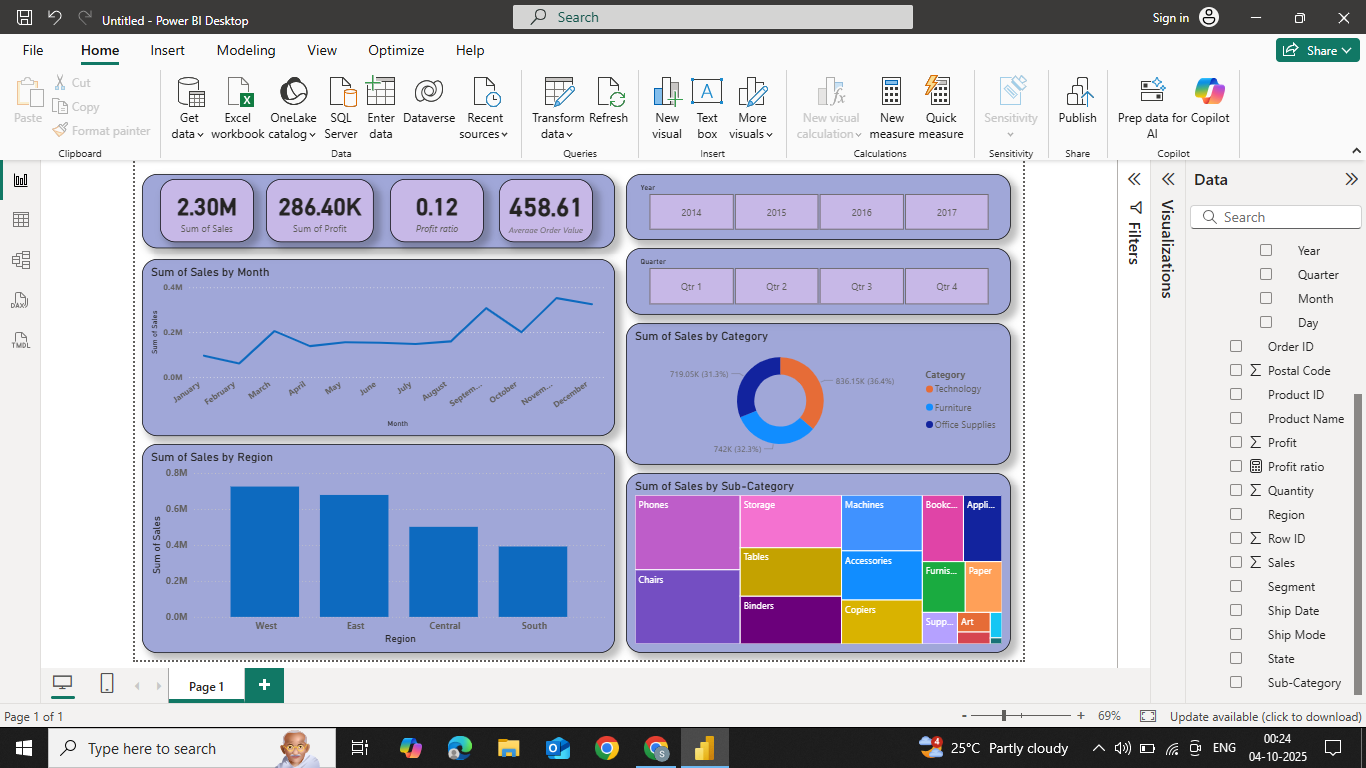

This screenshot's page, from the dashboard's own definition file:
{"tool":"powerbi","page":{"name":"Page 1","canvas":[1280,720],"ordinal":0},"visuals":[{"type":"lineChart","fields":{"Category":["Superstore.Order Date.Variation.Date Hierarchy.Month"],"Y":["Sum(Superstore.Sales)"]},"box":[10.1,142.6,681.1,254.9],"z":0},{"type":"slicer","fields":{"Values":["Superstore.Order Date.Variation.Date Hierarchy.Year"]},"box":[707,20.2,554.4,95],"z":1000},{"type":"clusteredColumnChart","fields":{"Y":["Sum(Superstore.Sales)"],"Category":["Superstore.Region"]},"box":[10.1,409,681.1,301],"z":2000},{"type":"donutChart","fields":{"Category":["Superstore.Category"],"Y":["Sum(Superstore.Sales)"]},"box":[707,234.7,554.4,204.5],"z":3000},{"type":"treemap","fields":{"Group":["Superstore.Sub-Category"],"Values":["Sum(Superstore.Sales)"]},"box":[707,450,554.4,259.2],"z":4000},{"type":"shape","box":[10.1,20.2,681.1,106.6],"z":5000},{"type":"slicer","fields":{"Values":["Superstore.Order Date.Variation.Date Hierarchy.Quarter"]},"box":[707,126.7,554.4,96.5],"z":6000},{"type":"card","fields":{"Values":["Sum(Superstore.Sales)"]},"box":[36,27.4,135,90.7],"z":7000},{"type":"card","fields":{"Values":["Sum(Superstore.Profit)"]},"box":[188.6,27.4,155,90.7],"z":8000},{"type":"card","fields":{"Values":["Superstore.Profit ratio"]},"box":[367.2,27.4,135.4,90.7],"z":8001},{"type":"card","fields":{"Values":["Superstore.Average Order Value"]},"box":[524.2,27.4,135.4,90.7],"z":8002}]}

Visuals, with their boxes on the page's 1280x720 design canvas (x1, y1, x2, y2). These are canvas units, not pixel positions in the 1366x768 screenshot, which may show the page scaled, cropped or inside an application window:
lineChart - Superstore.Order Date.Variation.Date Hierarchy.Month x Sum(Superstore.Sales): {"left": 10, "top": 143, "right": 691, "bottom": 398}
slicer - Superstore.Order Date.Variation.Date Hierarchy.Year: {"left": 707, "top": 20, "right": 1261, "bottom": 115}
clusteredColumnChart - Sum(Superstore.Sales) x Superstore.Region: {"left": 10, "top": 409, "right": 691, "bottom": 710}
donutChart - Superstore.Category x Sum(Superstore.Sales): {"left": 707, "top": 235, "right": 1261, "bottom": 439}
treemap - Superstore.Sub-Category x Sum(Superstore.Sales): {"left": 707, "top": 450, "right": 1261, "bottom": 709}
shape: {"left": 10, "top": 20, "right": 691, "bottom": 127}
slicer - Superstore.Order Date.Variation.Date Hierarchy.Quarter: {"left": 707, "top": 127, "right": 1261, "bottom": 223}
card - Sum(Superstore.Sales): {"left": 36, "top": 27, "right": 171, "bottom": 118}
card - Sum(Superstore.Profit): {"left": 189, "top": 27, "right": 344, "bottom": 118}
card - Superstore.Profit ratio: {"left": 367, "top": 27, "right": 503, "bottom": 118}
card - Superstore.Average Order Value: {"left": 524, "top": 27, "right": 660, "bottom": 118}
